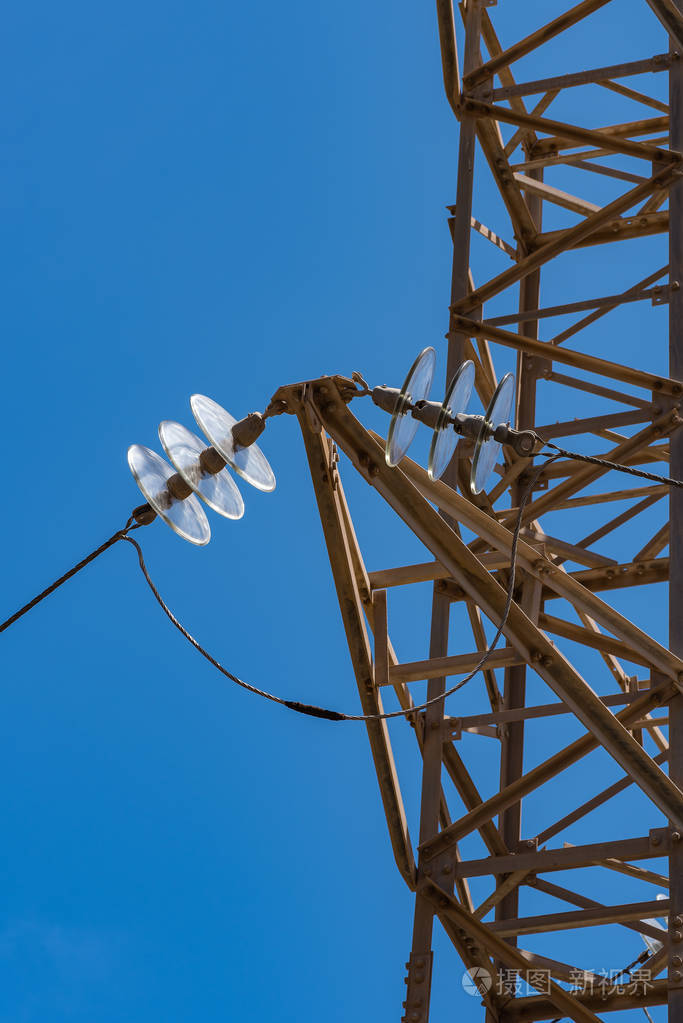insulator: (130, 391, 273, 543), (382, 347, 515, 496)
